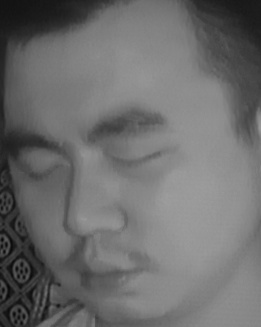blink: (110, 141, 166, 179), (19, 154, 65, 188)
mouth: (67, 244, 147, 297)
